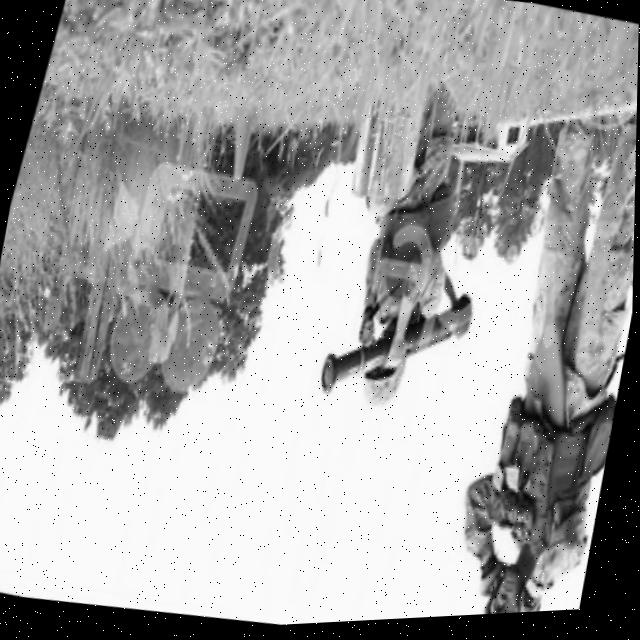rocket: (319, 263, 482, 426)
